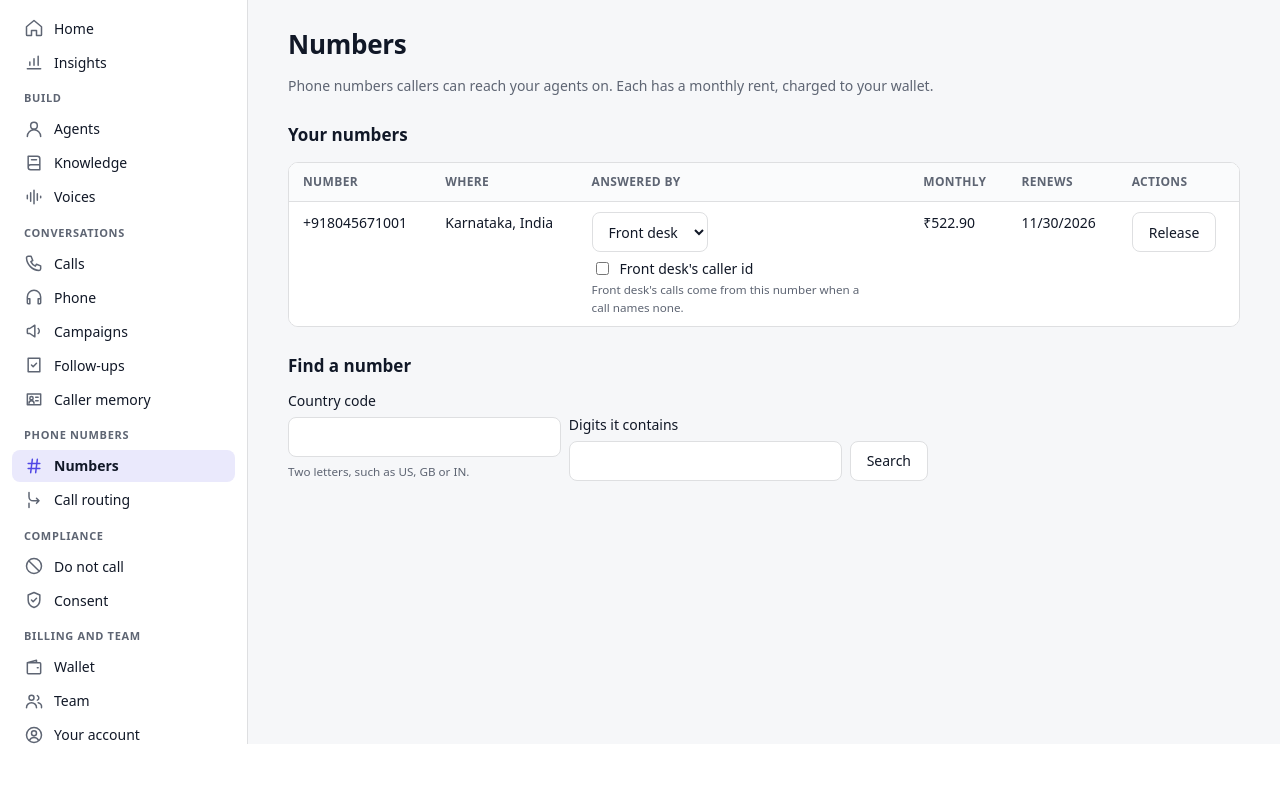
Scenario: a number's caller id › says the backend's word beside the switch when it is refused, and leaves it as it was
Click the switch labelled "Front desk's caller id" at (602, 269), box x1=596 y1=262 x2=609 y2=275
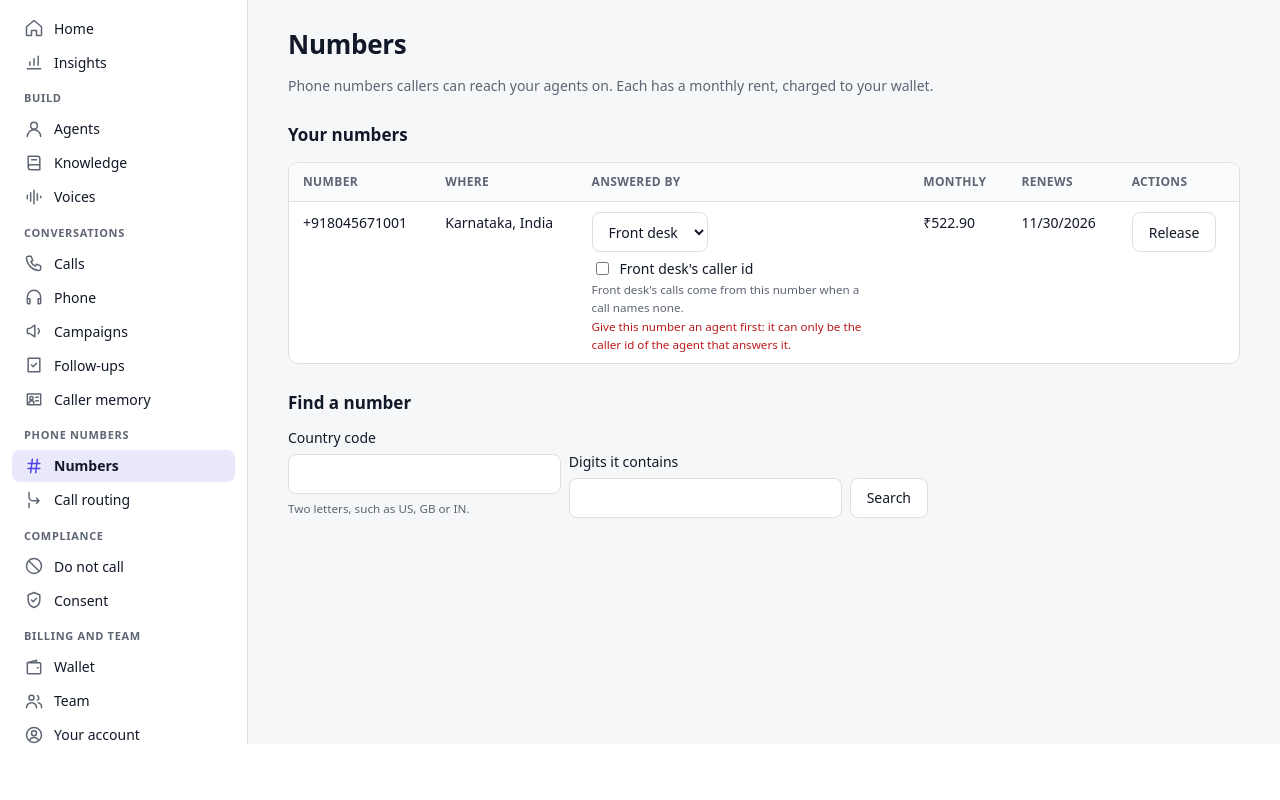
Expected: the message shows "Give this number an agent first: it can only be the caller id of the agent that answers it.", x1=592 y1=319 x2=861 y2=352
